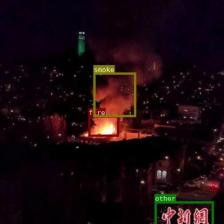fire: (88, 116, 119, 136)
smoke: (93, 72, 135, 116)
